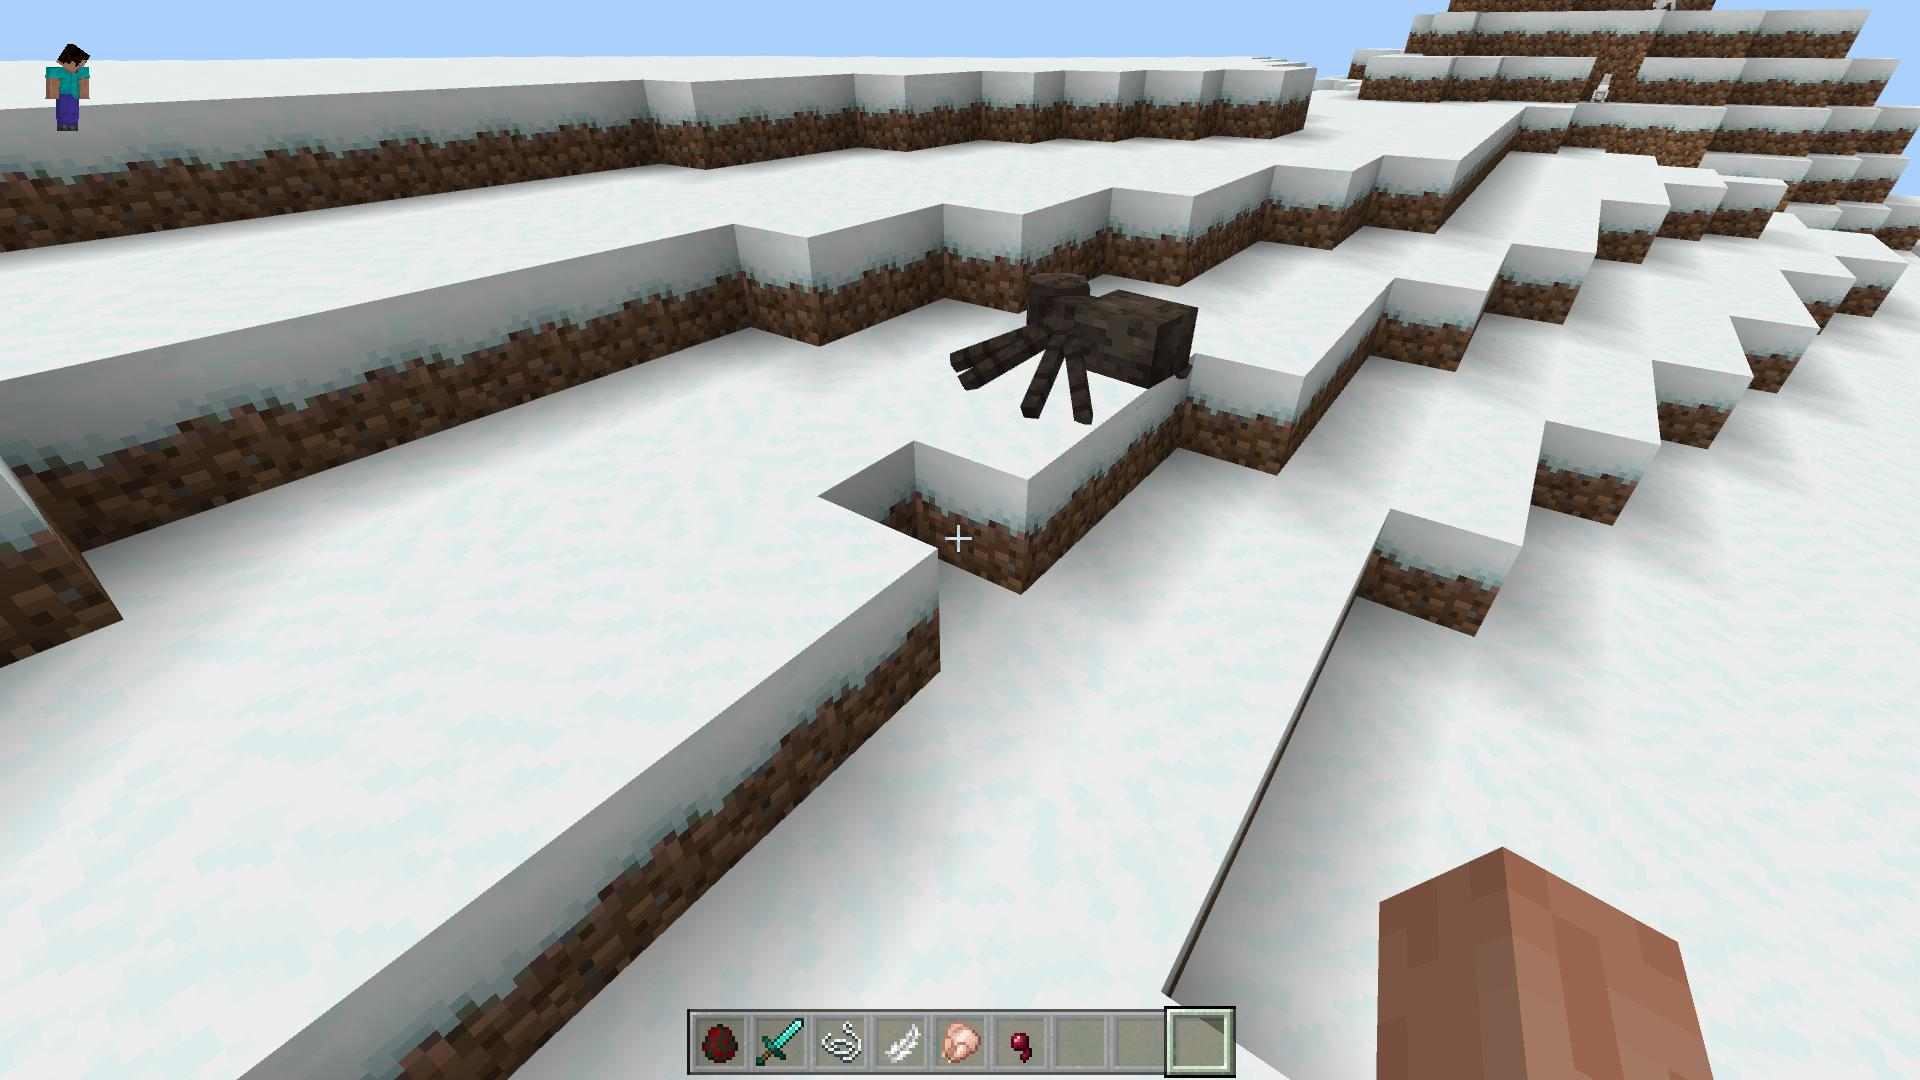spider: (951, 270, 1195, 425)
